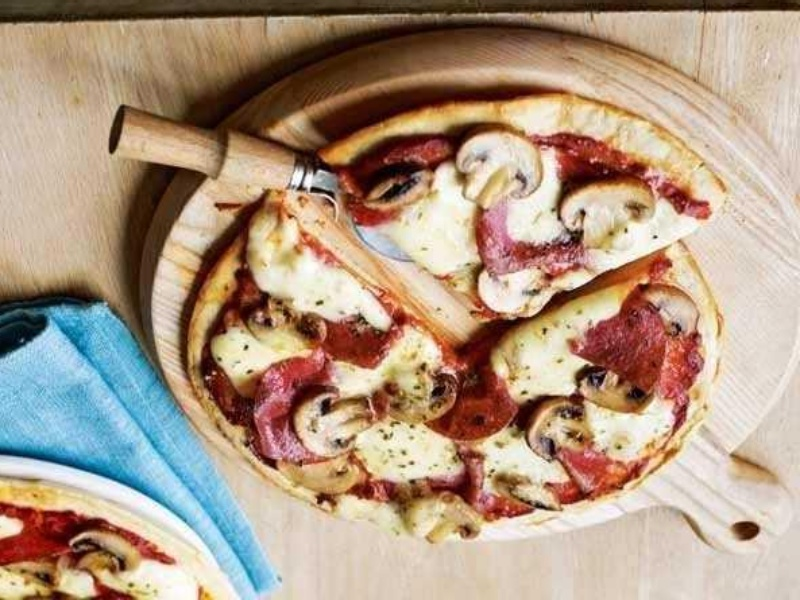champignon: (288, 375, 383, 470), (451, 128, 547, 215), (554, 177, 659, 250), (239, 294, 333, 360), (522, 396, 599, 463), (567, 359, 656, 416), (65, 528, 150, 585), (476, 258, 552, 320)
